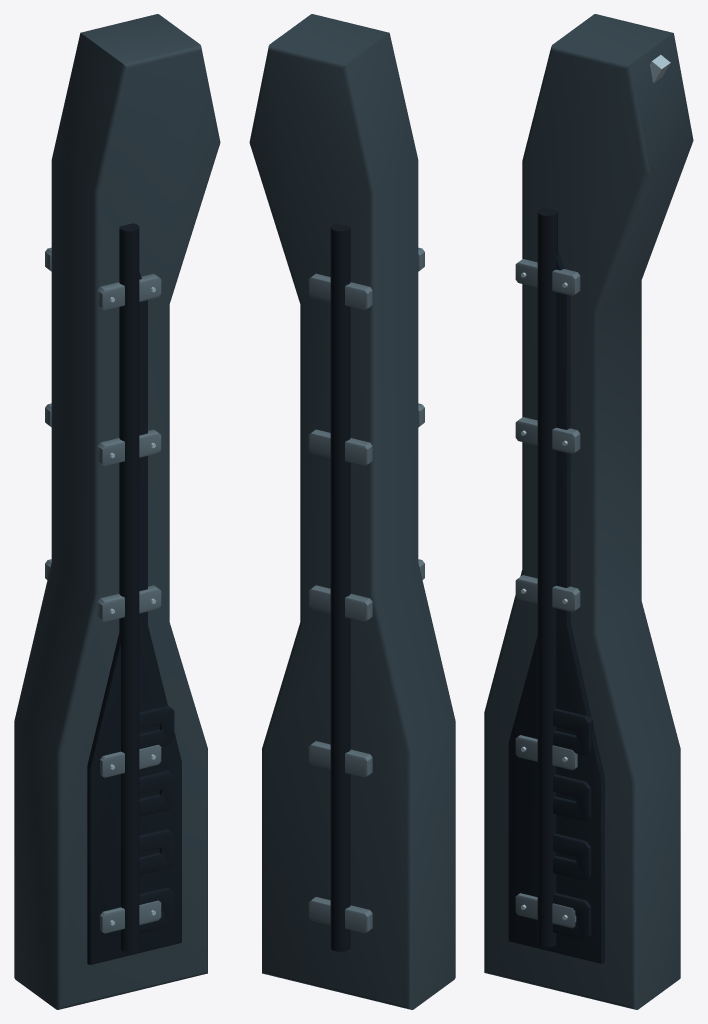
Rendered from power-buttress-p21.glb.
The picture shows the model from 3 angles, left to right: view 1: azimuth 30°, elevation 25°; view 2: azimuth 150°, elevation 25°; view 3: azimuth 330°, elevation 25°; orthographic projection.
Parts seen in each view (by area): view 1: cast_structural_shell, inset_armor, main_bus, bus_retainer (×5), recess_cover (×4); view 2: cast_structural_shell, main_bus, bus_retainer (×5); view 3: cast_structural_shell, inset_armor, main_bus, bus_retainer (×5), recess_cover (×4).
Boxes of the visible parts, x1,y1,x2,y2 form: cast_structural_shell: (14,14,220,1009); inset_armor: (87,272,181,964); main_bus: (119,223,139,951); bus_retainer (×5): (97,273,161,933); recess_cover (×4): (139,705,174,933); cast_structural_shell: (249,14,455,1009); main_bus: (330,223,350,951); bus_retainer (×5): (308,273,372,933); cast_structural_shell: (484,14,693,1009); inset_armor: (508,249,604,963); main_bus: (537,208,557,946); bus_retainer (×5): (515,259,580,928); recess_cover (×4): (553,708,593,939).
Bounding box in the file's own units: 2.63 × 14.33 × 1.74.
